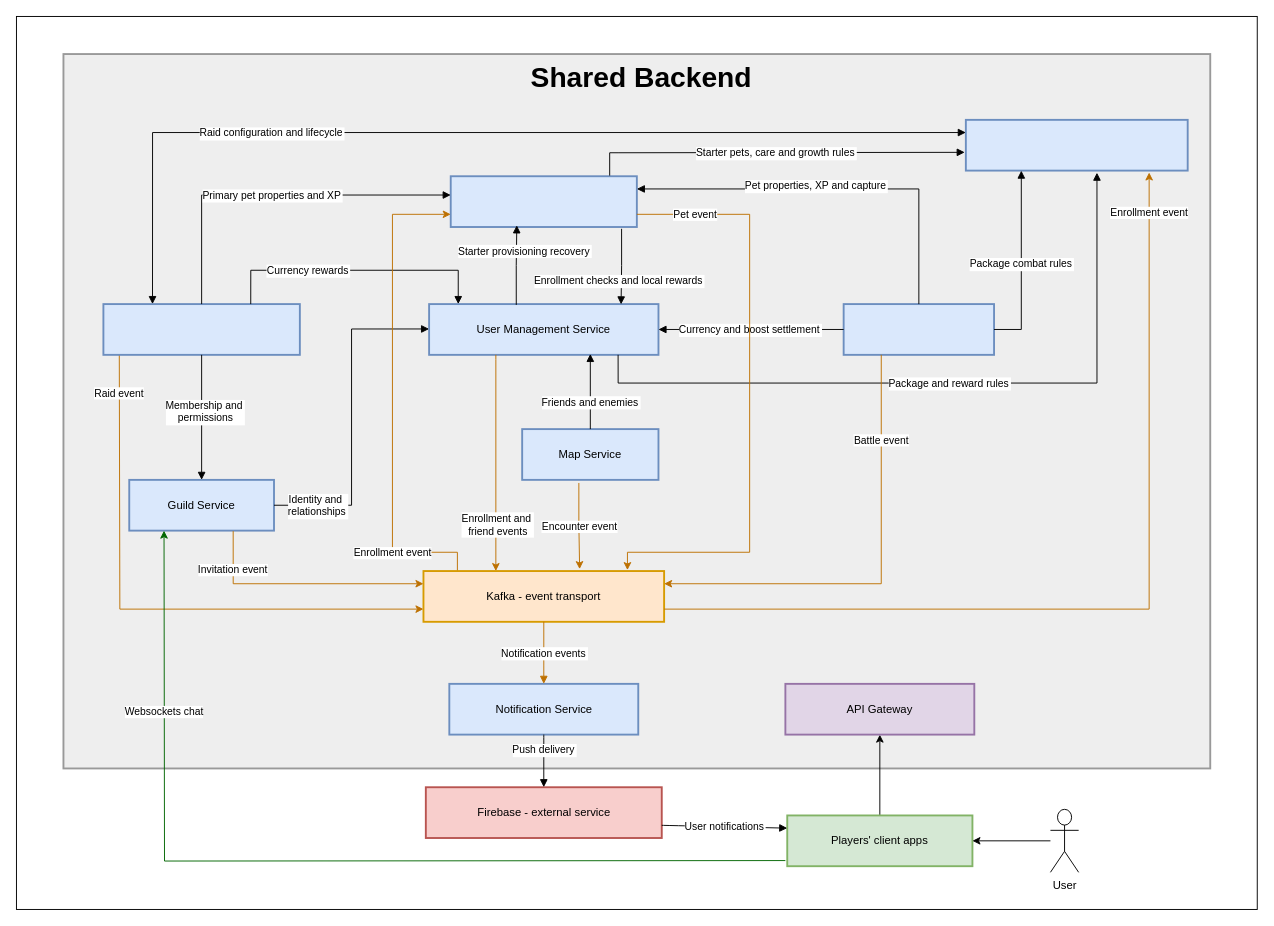
Image size: 1274x926. Some labels were removed from this diagram. The centre of each missing label's shape, as x and y in pixels:
"Battle Service" goes at point (918, 329).
"Monster Raid Service" goes at point (201, 329).
"Package Registry Service" goes at point (1076, 144).
"Tamagotchi Service" goes at point (543, 201).
